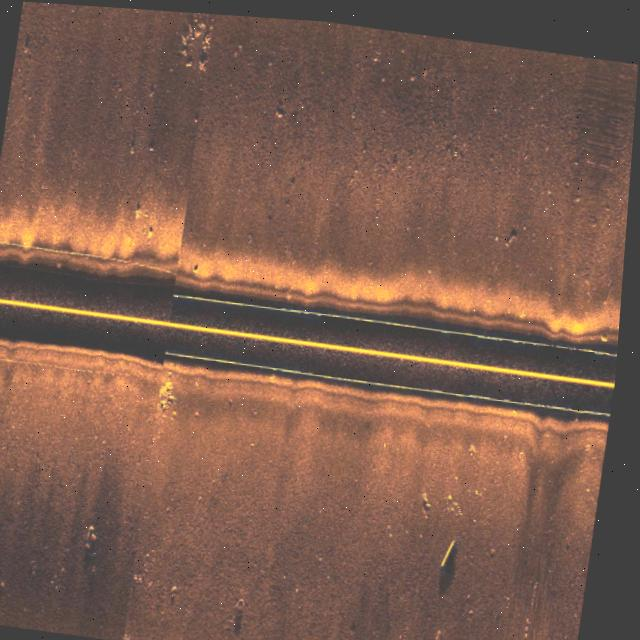mine: (437, 526, 474, 593), (432, 619, 453, 640)
